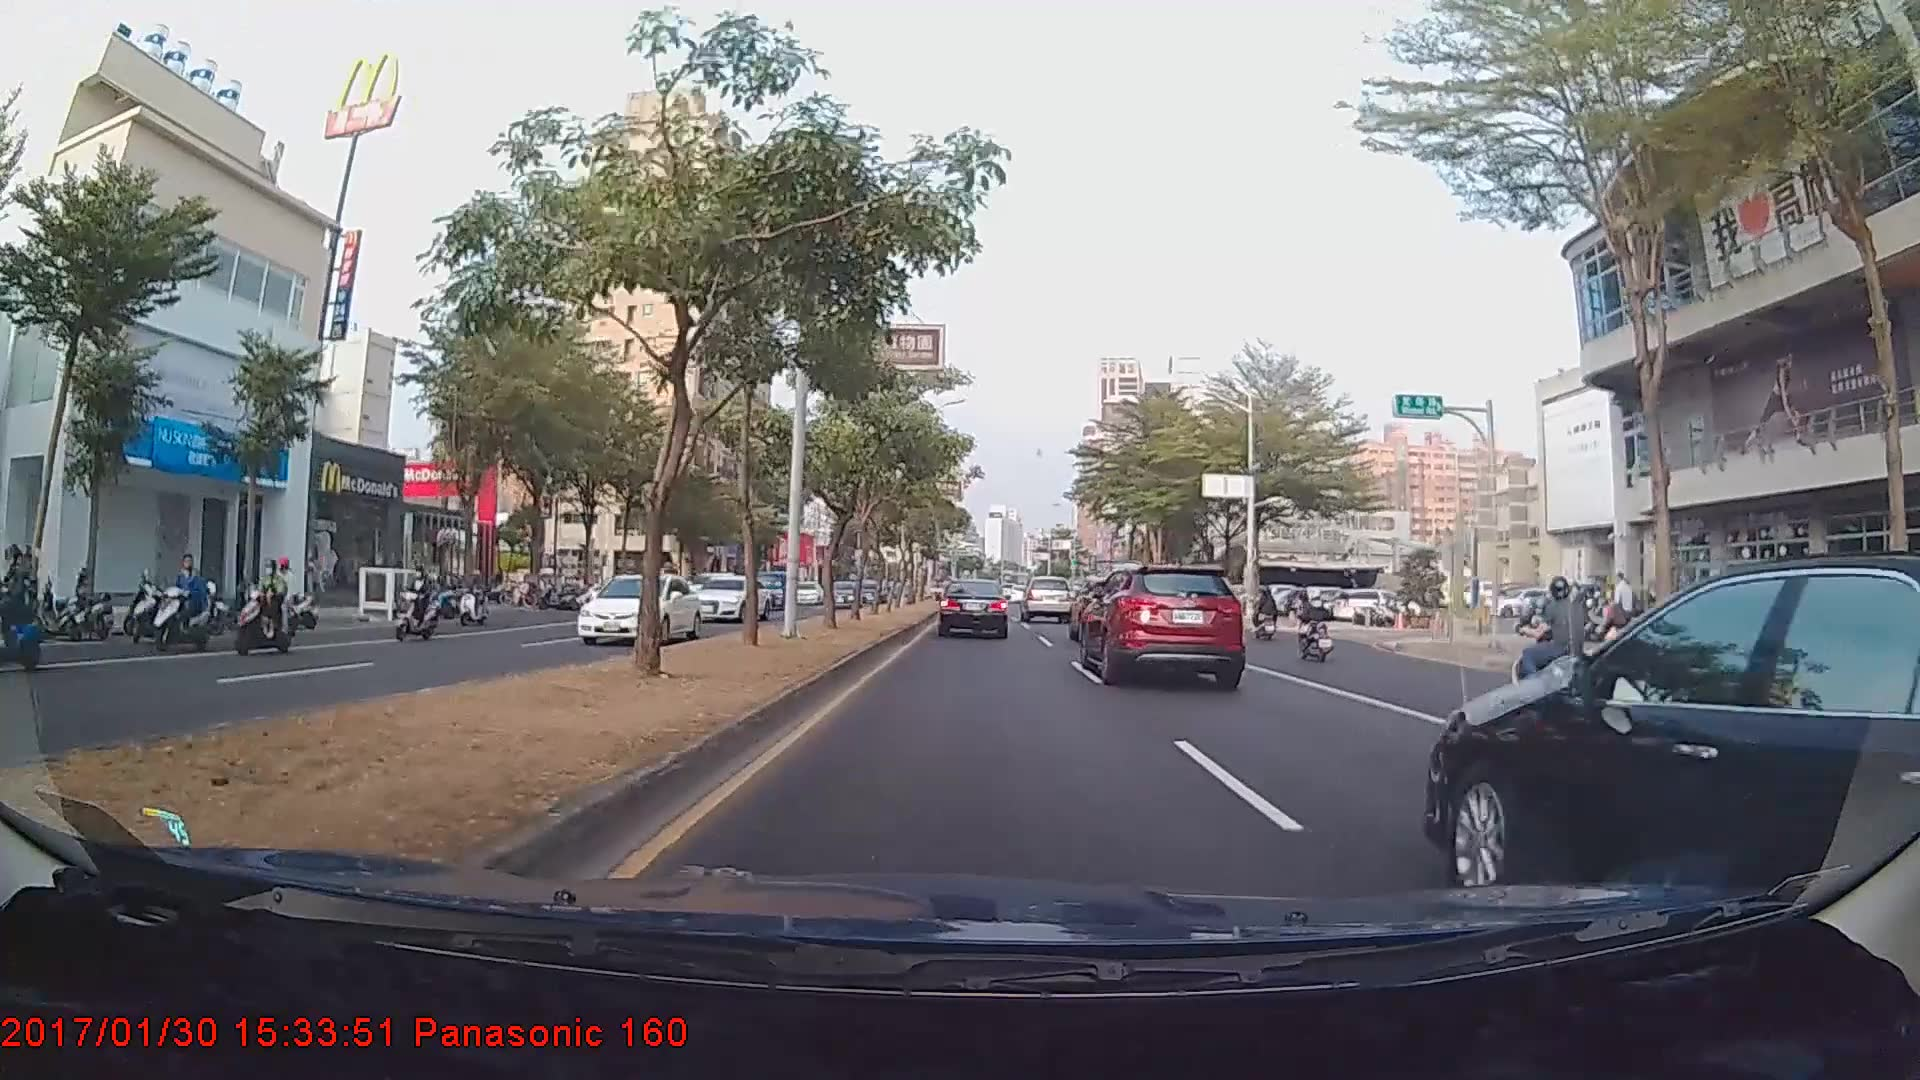pedestrian: (1604, 572, 1635, 654)
rider: (1502, 572, 1621, 734), (138, 547, 223, 652), (229, 555, 300, 656), (383, 561, 443, 644), (1296, 586, 1340, 668), (454, 566, 494, 627)
vehicle: (1439, 552, 1919, 928), (1079, 562, 1245, 683), (575, 572, 702, 645), (938, 578, 1008, 639), (686, 573, 769, 621), (1020, 575, 1075, 623)
